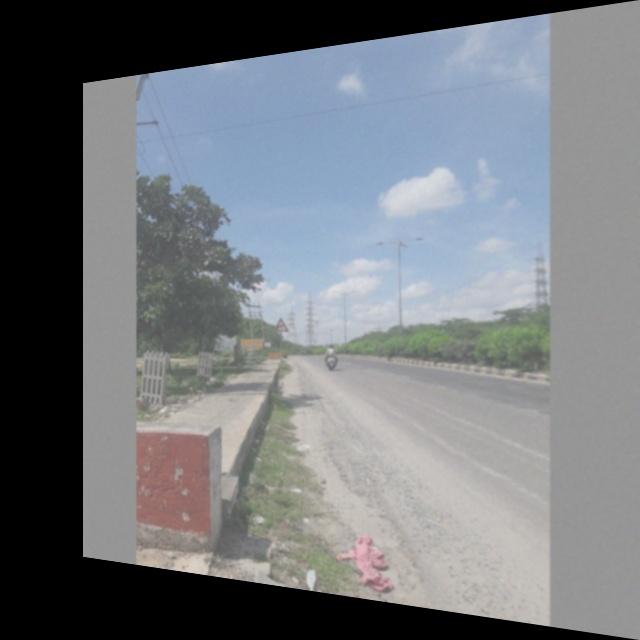Right_Hand_Curve: (273, 318, 287, 332)
